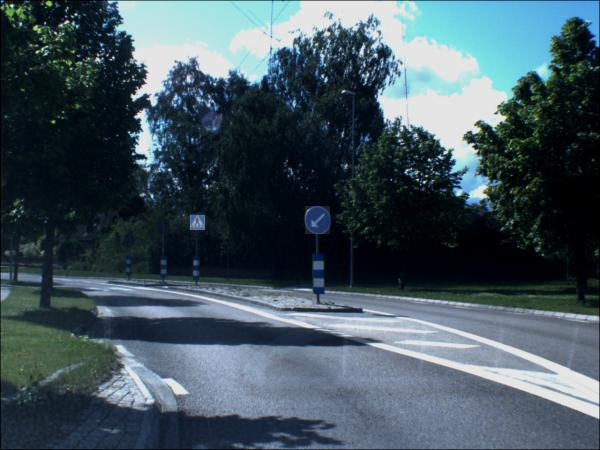PASS_RIGHT_SIDE: (305, 207, 331, 236)
PEDESTRIAN_CROSSING: (190, 216, 206, 232)
